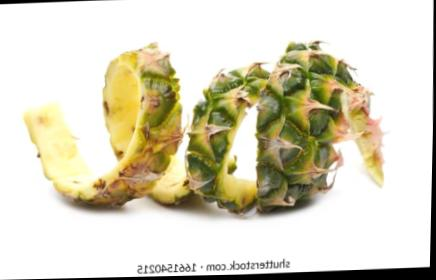organic: (19, 32, 388, 226)
